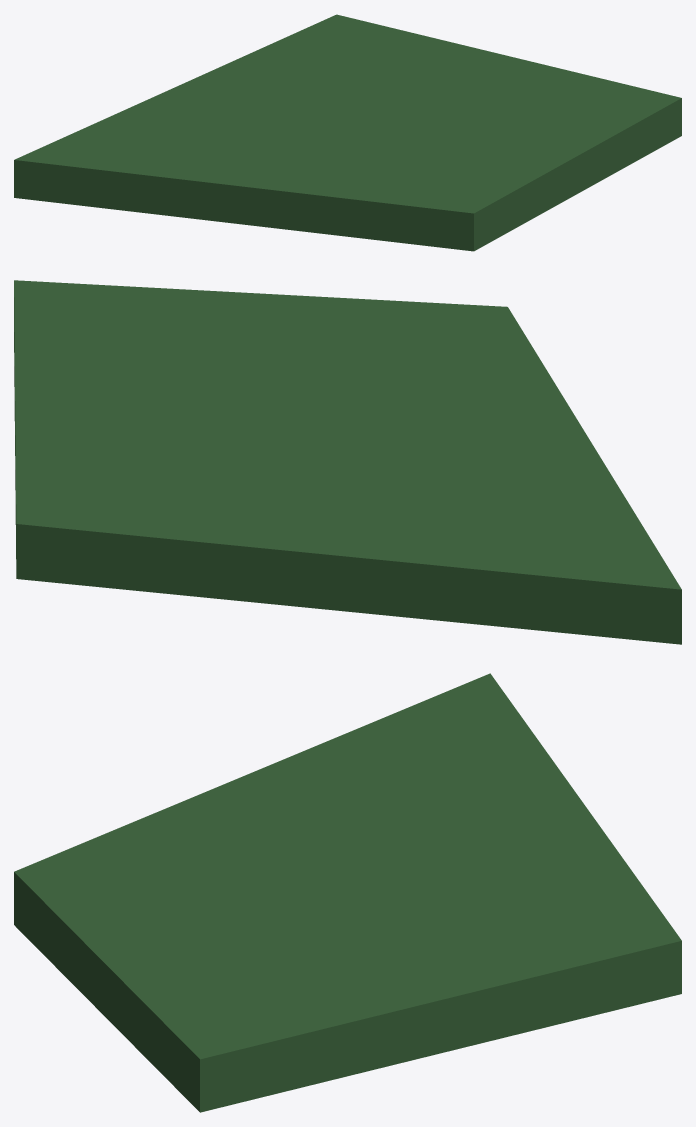
File: x_proval_00_169_1_rmstrd.fbx
3 views of the same model, one above another, from view 1: azimuth 30°, elevation 25°; view 2: azimuth 150°, elevation 25°; view 3: azimuth 270°, elevation 25° (orthographic). The views are drawn at different scales.
Visible parts, largest first — view 1: x_proval_00_169_1_rmstrd1; view 2: x_proval_00_169_1_rmstrd1; view 3: x_proval_00_169_1_rmstrd1.
Boxes of the visible parts, <box> form: x_proval_00_169_1_rmstrd1: <box>14,14,681,251</box>; x_proval_00_169_1_rmstrd1: <box>14,280,681,644</box>; x_proval_00_169_1_rmstrd1: <box>14,673,681,1112</box>.
Bounding box in the file's own units: 3.11 × 0.2 × 2.27.
